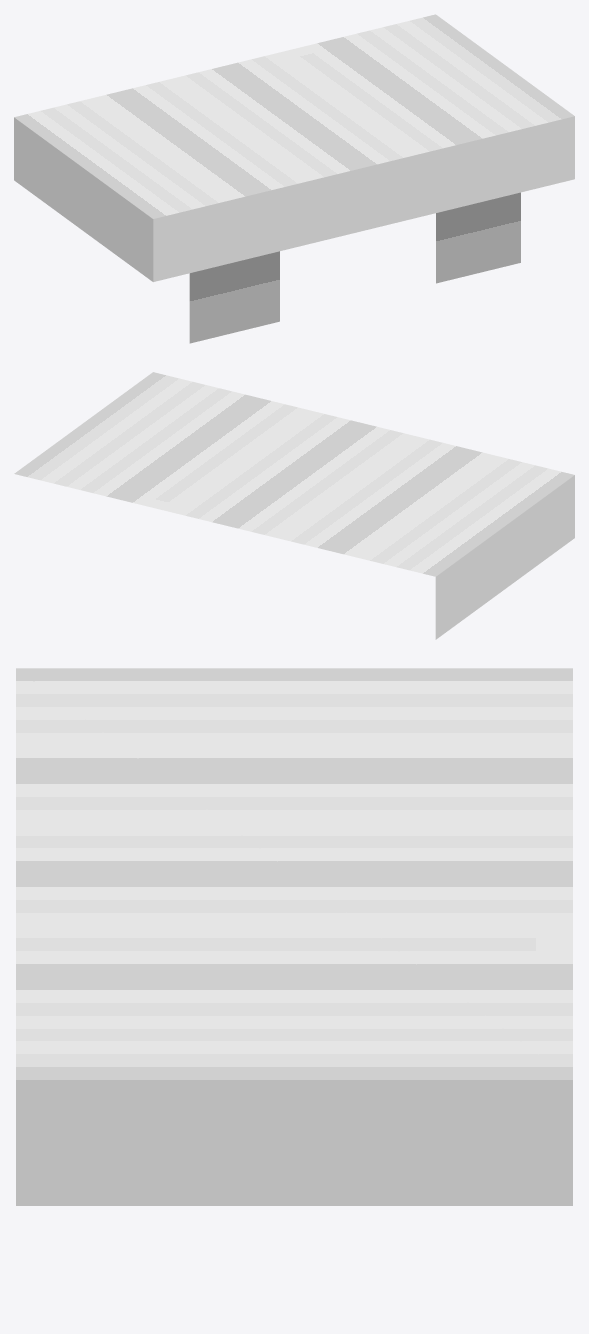
3 views of the same model, one above another, from view 1: azimuth 30°, elevation 25°; view 2: azimuth 150°, elevation 25°; view 3: azimuth 270°, elevation 25° (orthographic). The views are drawn at different scales.
Bounding box in the file's own units: 1.75 × 0.5625 × 1.
2 materials, 2 textured.
